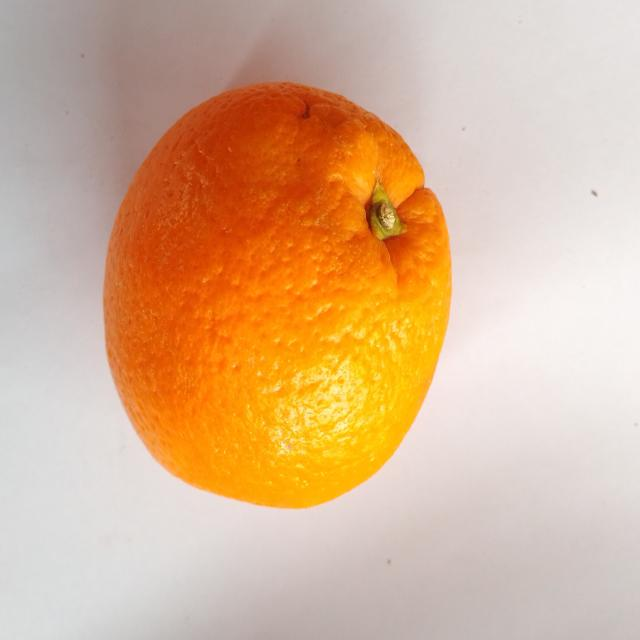orange: (104, 83, 450, 507)
